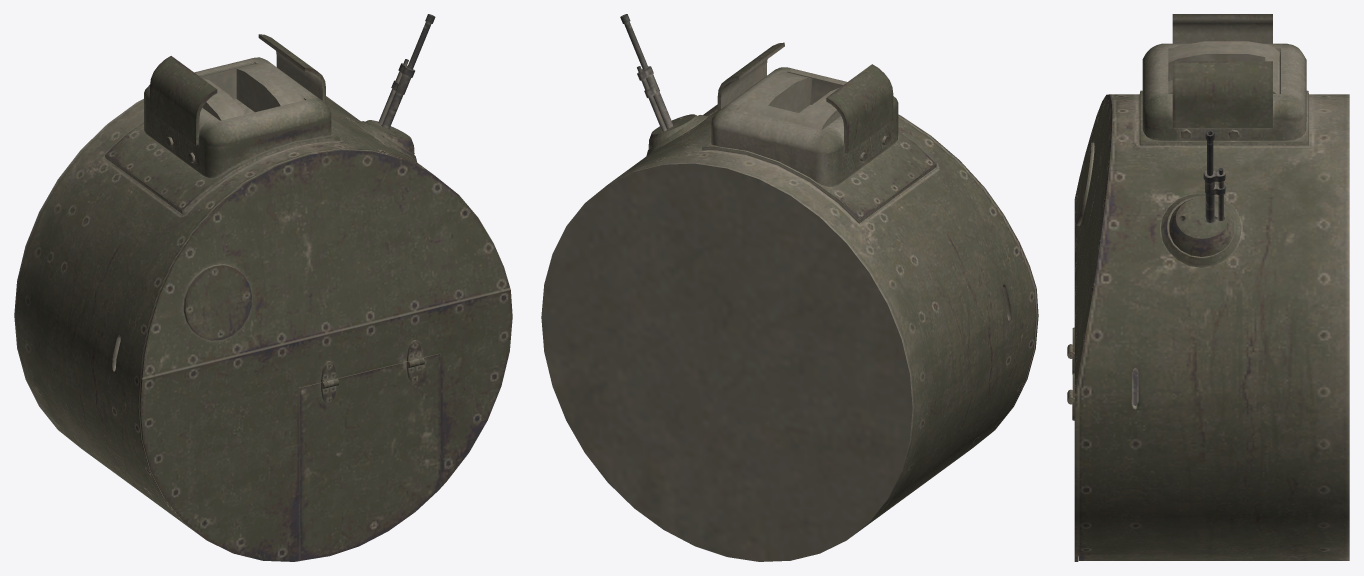
File: Turret_01.glb
3 renders of one model, left to right at view 1: azimuth 30°, elevation 25°; view 2: azimuth 150°, elevation 25°; view 3: azimuth 270°, elevation 25°, orthographic. The views are drawn at different scales.
Parts seen in each view (by area): view 1: set_0_group_0; view 2: set_0_group_0; view 3: set_0_group_0.
Part boxes in pixels (box(x1,y1,x2,y2)): set_0_group_0: box(14, 14, 512, 561); set_0_group_0: box(541, 14, 1038, 561); set_0_group_0: box(1067, 14, 1349, 561).
Size of the model in its own units: 1.17 by 1.37 by 0.7042.
1 material, 1 textured.
